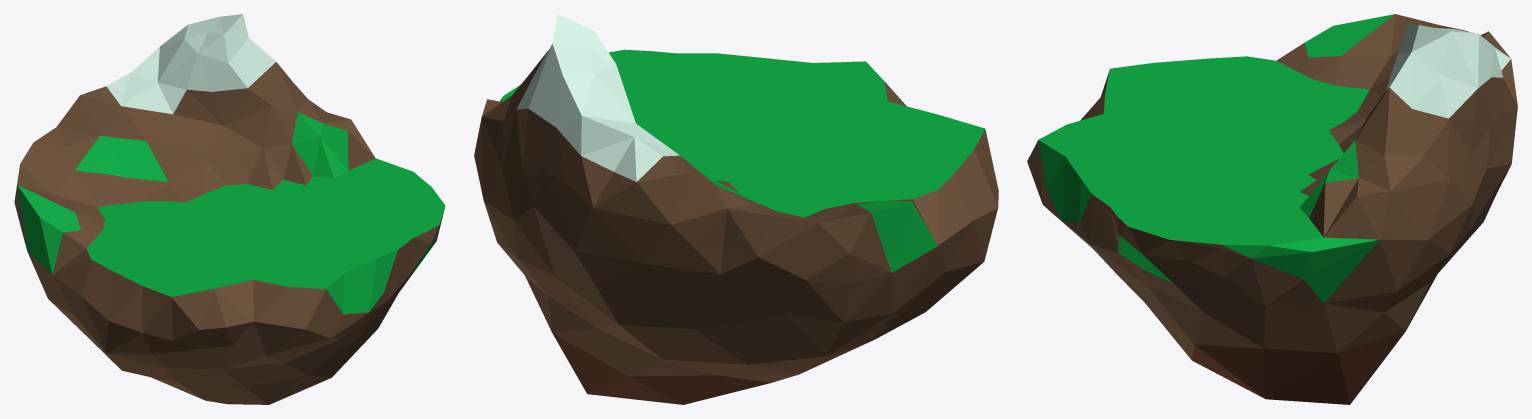
Rendered from Rand02.fbx.
3 renders of one model, left to right at view 1: azimuth 30°, elevation 25°; view 2: azimuth 150°, elevation 25°; view 3: azimuth 270°, elevation 25°, orthographic. The views are drawn at different scales.
Visible parts, largest first — view 1: Icosphere; view 2: Icosphere; view 3: Icosphere.
Part boxes in pixels (x1,y1,x2,y2): Icosphere: (14, 14, 445, 404); Icosphere: (474, 14, 998, 404); Icosphere: (1027, 14, 1517, 404).
Size of the model in its own units: 1849 by 1641 by 1914.
